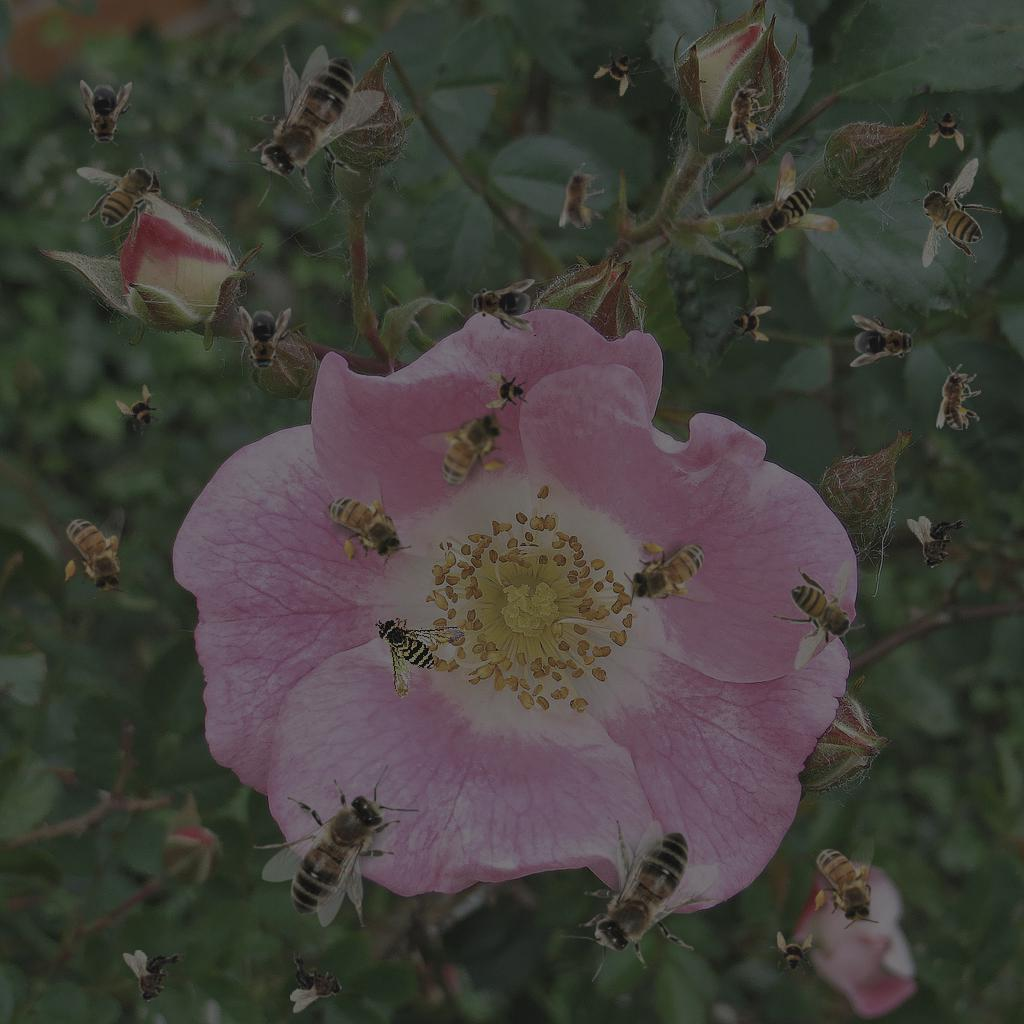Bee: (253, 765, 420, 927), (226, 45, 393, 207), (560, 820, 727, 982), (315, 467, 415, 580), (411, 400, 525, 499), (76, 153, 187, 247), (908, 157, 1002, 268), (771, 560, 865, 671), (373, 601, 477, 701), (757, 151, 839, 239), (61, 506, 129, 599), (811, 836, 879, 929), (624, 539, 717, 607), (589, 40, 651, 102), (108, 380, 170, 442), (80, 80, 132, 148), (467, 279, 535, 331), (850, 315, 918, 367), (239, 306, 291, 374), (123, 950, 185, 1003), (907, 516, 969, 569), (290, 951, 343, 1013), (936, 364, 981, 430), (725, 79, 770, 145), (559, 163, 604, 229), (770, 931, 814, 975), (927, 107, 971, 151), (728, 299, 772, 343), (485, 371, 529, 415)
